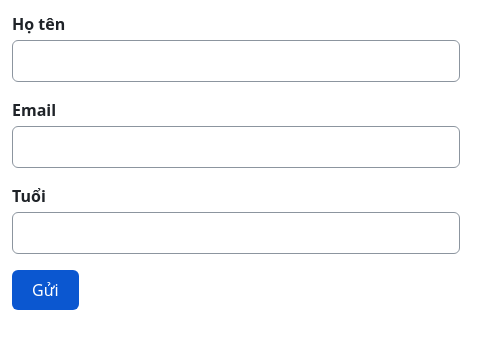
SimpleForm › gõ sai rồi rời field → aria-invalid="true" + thông báo role="alert" nối bằng aria-describedby
Type "A" into the field labelled "Họ tên" at (236, 61), box [12,40,460,82]
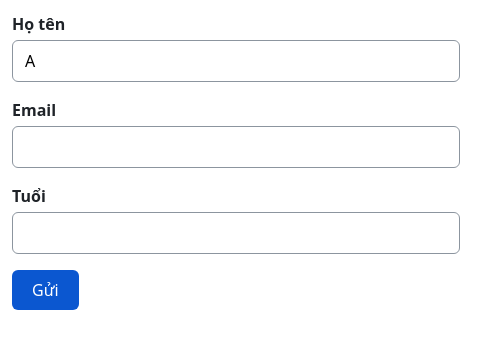
Leave the field labelled "Họ tên", box [12,40,460,82]
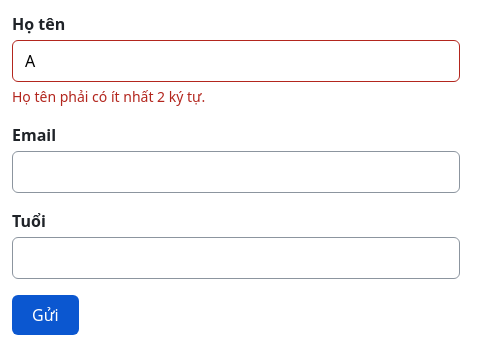
Check: the message reads "Họ tên phải có ít nhất 2 ký tự.", box [12,87,205,106]
